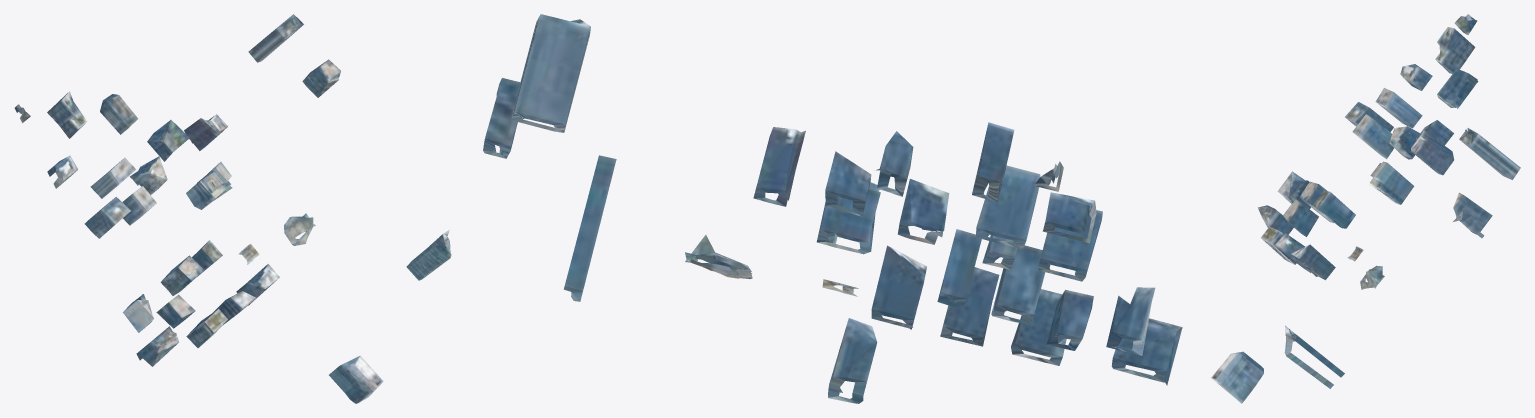
File: AJVsH2xkjh4RzUT4gVpljXC2HVDQbgtcpbMqFunoTkSFgjC0sXSpMdRcgI1aGdrxqX00hqPLW7aO0i_8U5mxw60Mr6Su2XDpKo8jKWJ1uTd-CcRbDD566dPMWLqt74Uk328Dytw968BjVFCFye4WxFxqesF7QL8AdA.glb
The picture shows the model from 3 angles, left to right: view 1: azimuth 30°, elevation 25°; view 2: azimuth 150°, elevation 25°; view 3: azimuth 270°, elevation 25°; orthographic projection. The views are drawn at different scales.
Size of the model in its own units: 496 by 399 by 383.
Materials: 1 (1 with a texture image).
